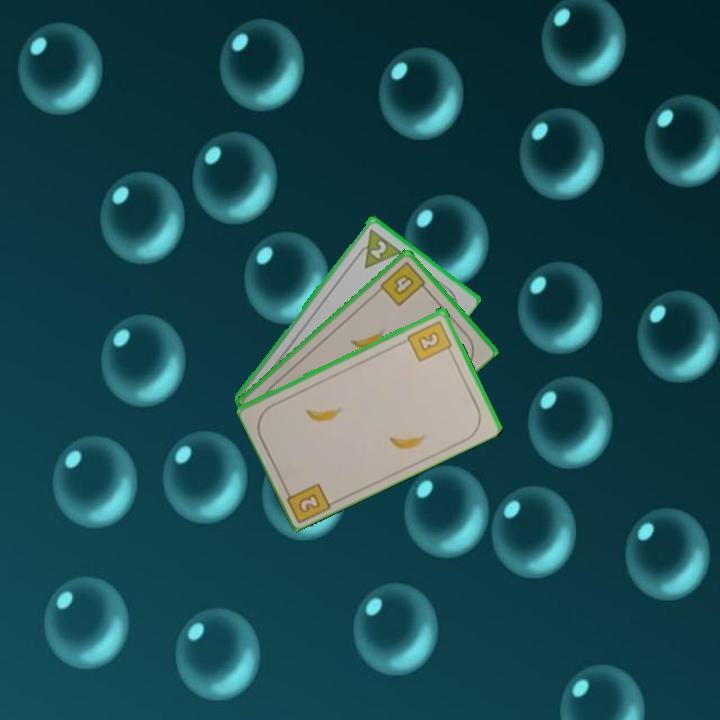2b: (280, 479, 335, 524), (404, 317, 455, 364)
2p: (351, 225, 404, 271)
4b: (376, 258, 431, 309)
